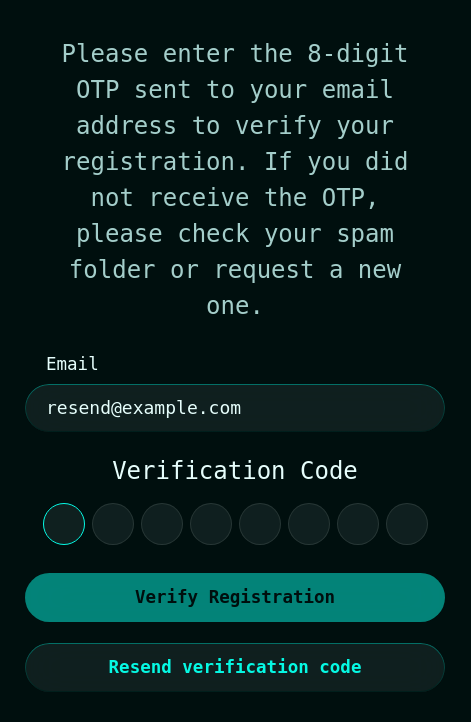
VerifyRegistrationPage › handles resend verification code
(page scrolled)
Click the button "Resend verification code": x=235, y=667 [25, 643, 445, 692]
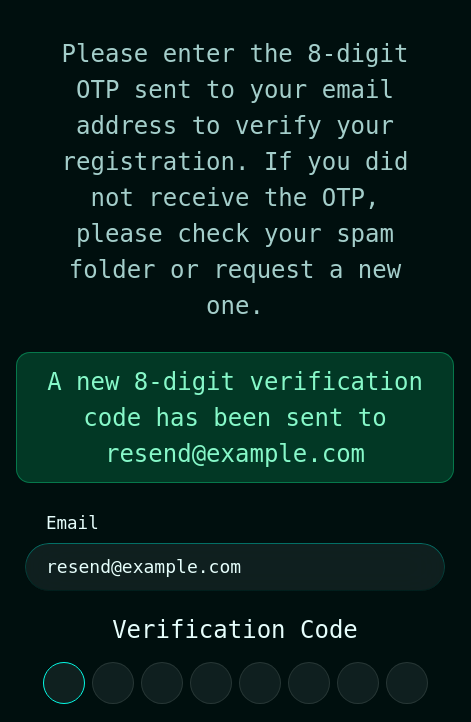
Check: the message shows "new 8-digit verification code has been sent", box [47, 368, 423, 468]
